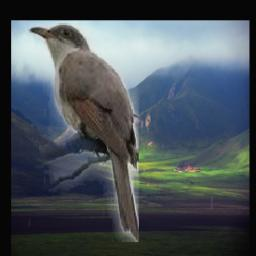Cuckoo: (29, 24, 140, 243)
